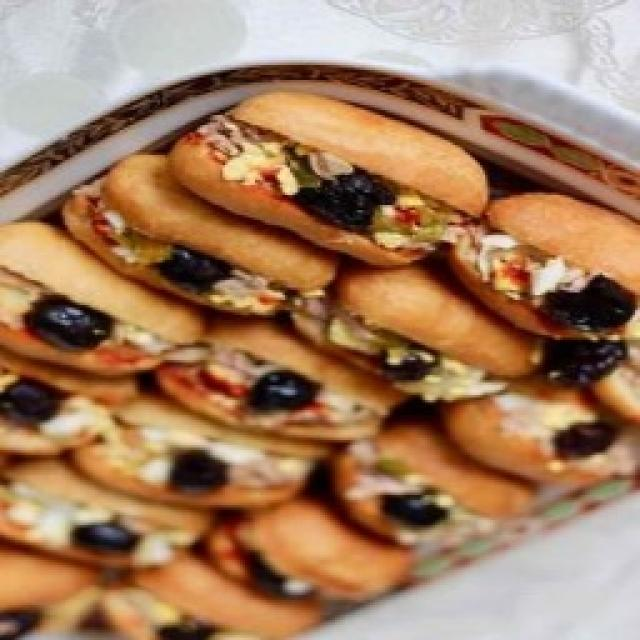Frecasse: (0, 92, 640, 640)
